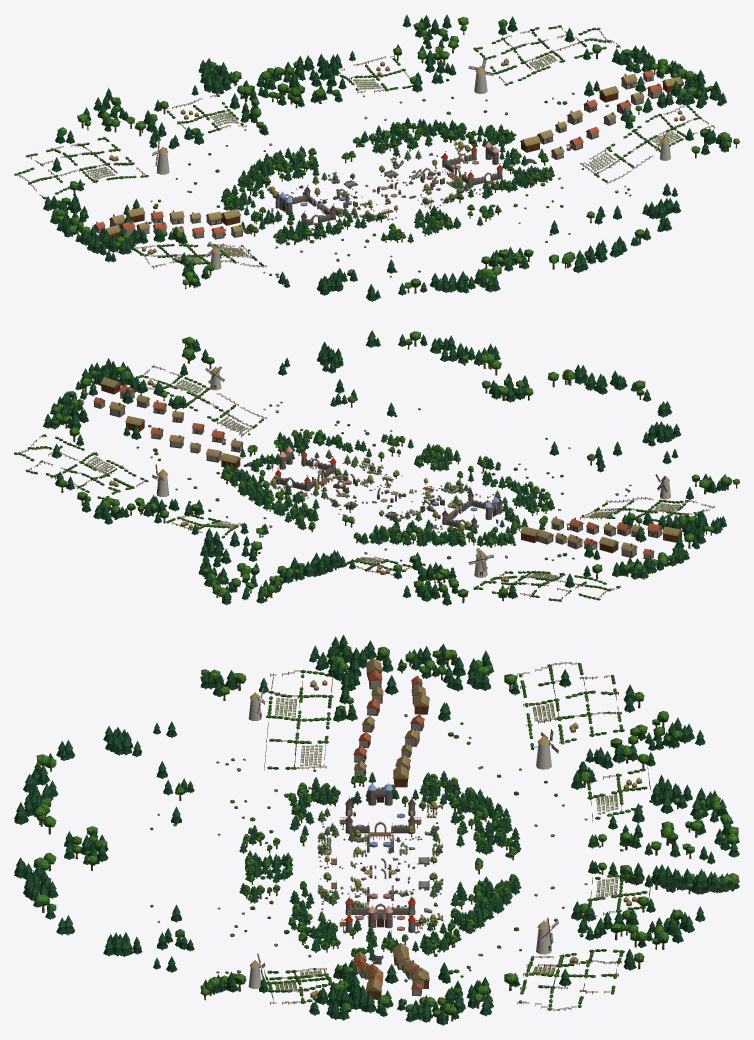
File: crossing.glb
3 renders of one model, top to bottom at view 1: azimuth 30°, elevation 25°; view 2: azimuth 150°, elevation 25°; view 3: azimuth 270°, elevation 25°, orthographic. The views are drawn at different scales.
Parts seen in each view (by area): view 1: Props, TallGrass; view 2: Props, TallGrass; view 3: Props, TallGrass.
Boxes of the visible parts, x1,y1,x2,y2 form: Props: [14, 14, 739, 301]; TallGrass: [86, 54, 680, 262]; Props: [14, 330, 739, 605]; TallGrass: [86, 379, 681, 579]; Props: [14, 634, 739, 1025]; TallGrass: [275, 698, 618, 990].
Size of the model in its own units: 327 by 28.83 by 266.
23 materials, 23 textured.
